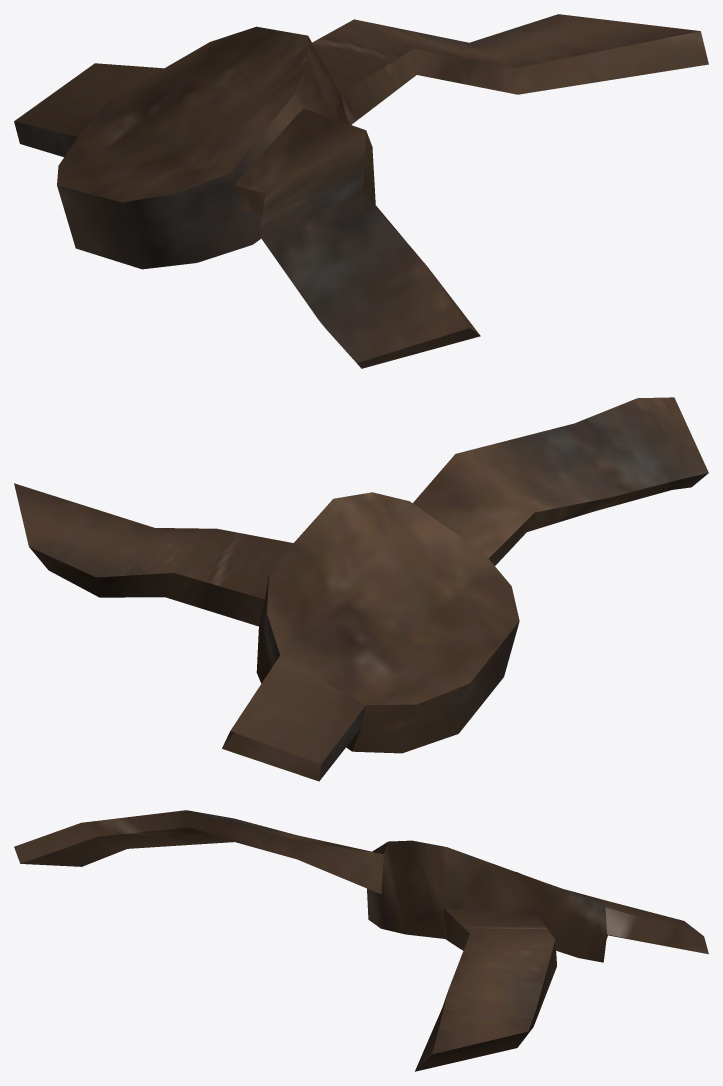
File: plane_wreckage_debris_micro_02.dae
3 renders of one model, top to bottom at view 1: azimuth 30°, elevation 25°; view 2: azimuth 150°, elevation 25°; view 3: azimuth 270°, elevation 25°, orthographic. The views are drawn at different scales.
Parts seen in each view (by area): view 1: pasted__polySurface56; view 2: pasted__polySurface56; view 3: pasted__polySurface56.
Boxes of the visible parts, x1,y1,x2,y2 form: pasted__polySurface56: (14,14,708,368); pasted__polySurface56: (14,397,708,781); pasted__polySurface56: (14,810,708,1071).
Size of the model in its own units: 34.79 by 11.63 by 46.14.
